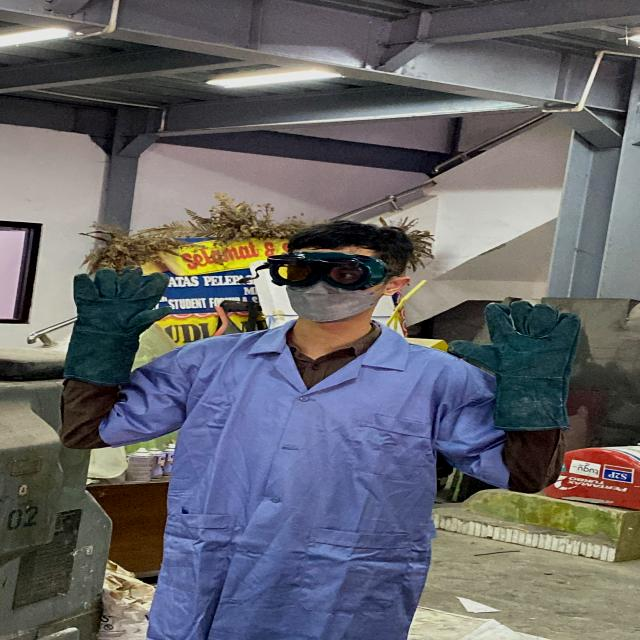face_mask: (265, 251, 385, 320)
glasses: (244, 246, 402, 294)
hand_glove: (428, 298, 587, 396), (63, 263, 175, 340)
head_nohelmet: (272, 212, 414, 257)
person: (45, 202, 601, 640)
